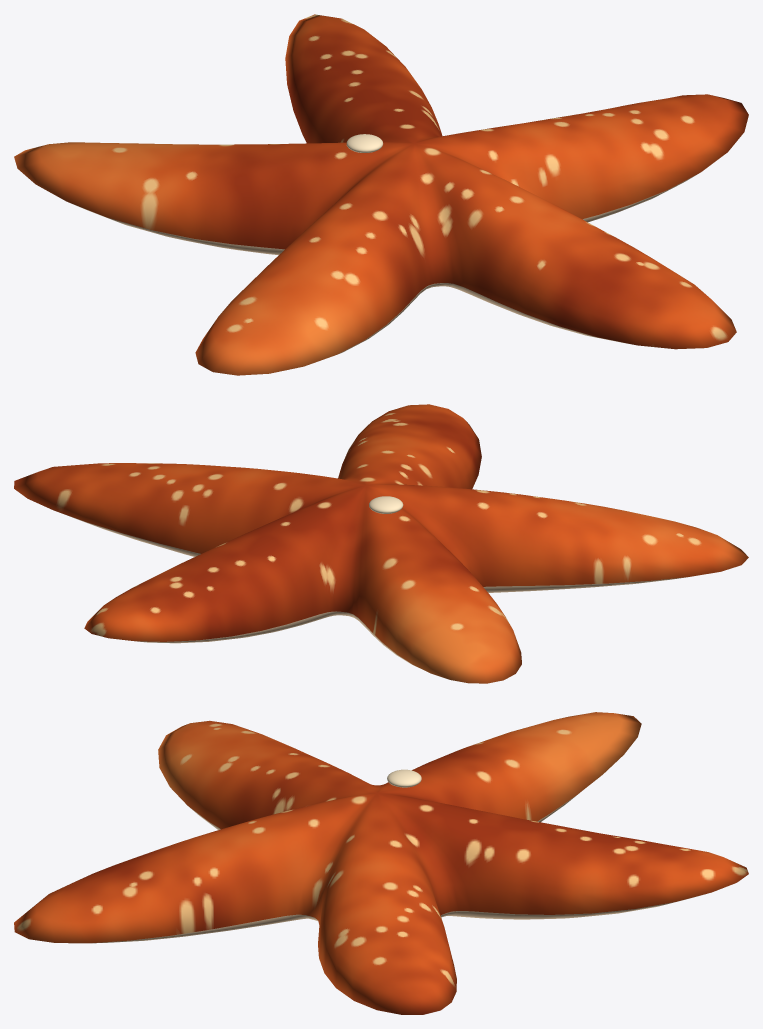
The model's file is seastar.glb.
3 views of the same model, one above another, from view 1: azimuth 30°, elevation 25°; view 2: azimuth 150°, elevation 25°; view 3: azimuth 270°, elevation 25° (orthographic). The views are drawn at different scales.
Parts seen in each view (by area): view 1: Sea star; view 2: Sea star, Madreporite; view 3: Sea star, Madreporite.
Boxes of the visible parts, x1=… form: Sea star: x1=14, y1=14, x2=748, y2=375; Sea star: x1=14, y1=404, x2=748, y2=683; Madreporite: x1=369, y1=496, x2=403, y2=513; Sea star: x1=14, y1=712, x2=748, y2=1014; Madreporite: x1=387, y1=769, x2=421, y2=787.
Size of the model in its own units: 1.86 by 0.31 by 1.9.
Materials: 3 (1 with a texture image).
